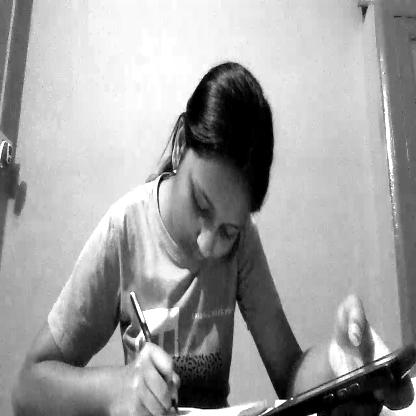Distracted: (168, 66, 278, 290)
